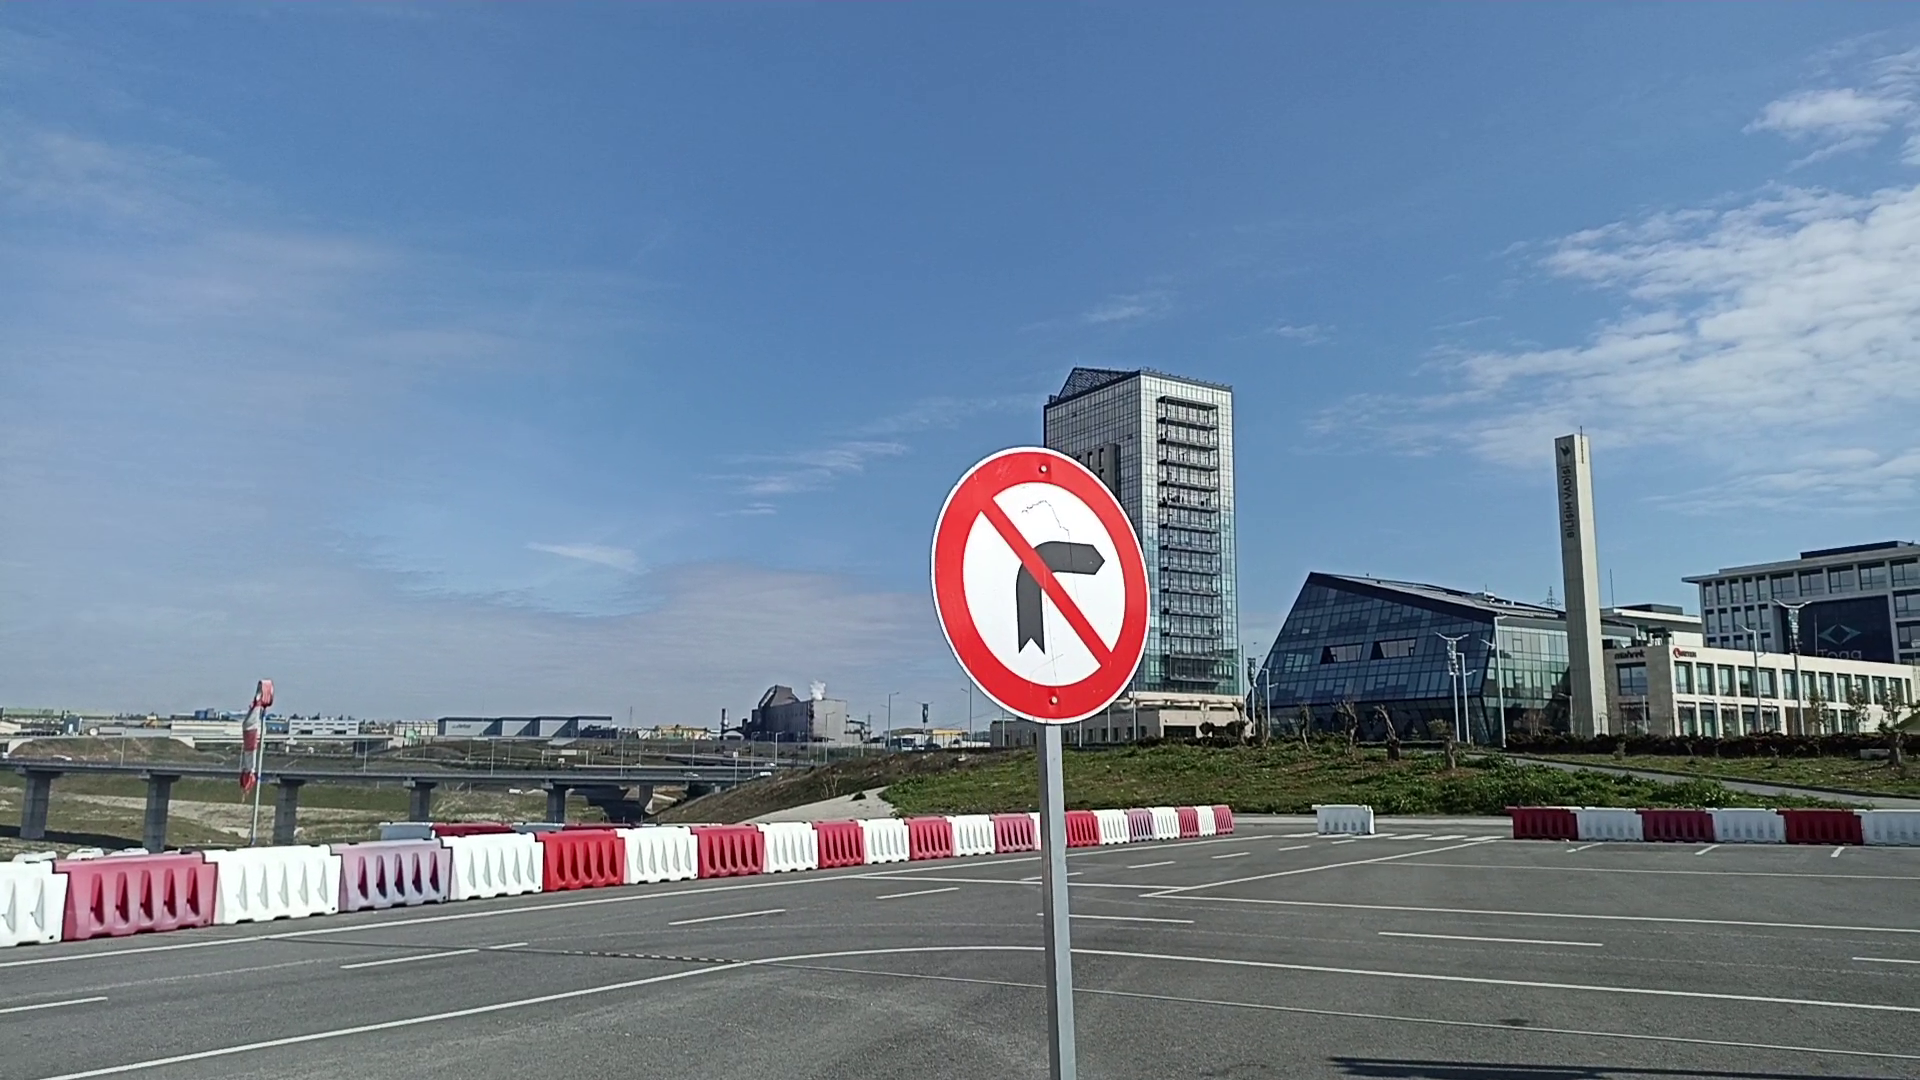noleftturn: (926, 444, 1154, 727)
